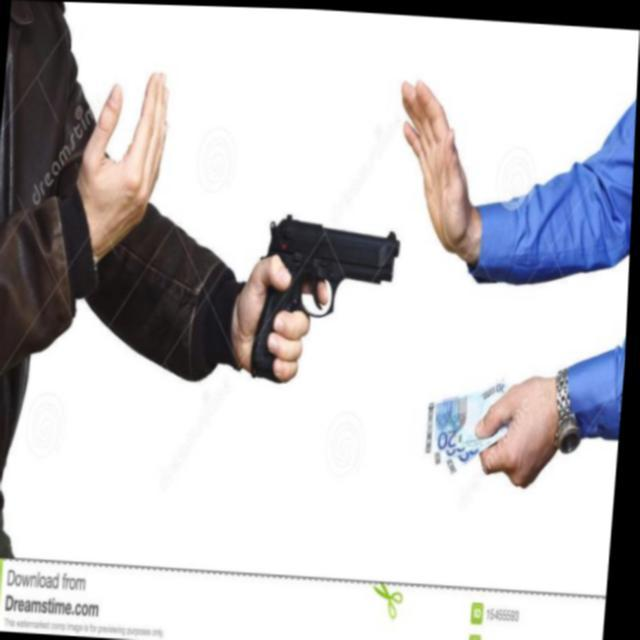weapon: (250, 209, 403, 387)
